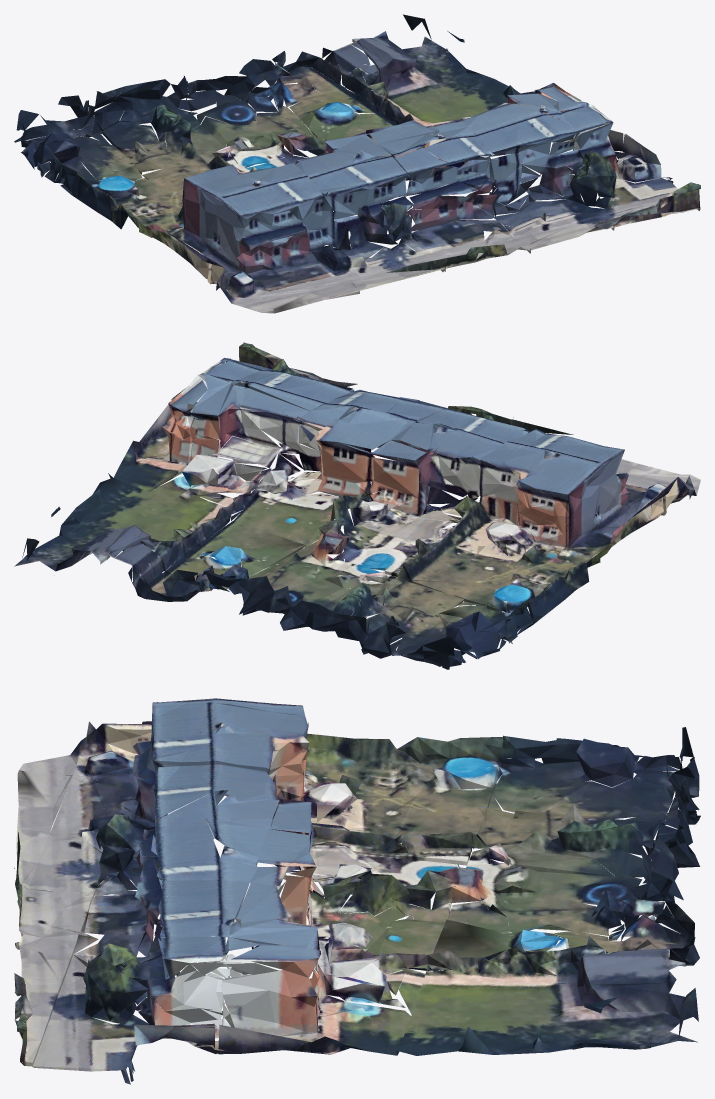
Rendered from house.gltf.
3 renders of one model, top to bottom at view 1: azimuth 30°, elevation 25°; view 2: azimuth 150°, elevation 25°; view 3: azimuth 270°, elevation 25°, orthographic. The views are drawn at different scales.
Parts seen in each view (by area): view 1: BuildingMesh-00023, BuildingMesh-00026, BuildingMesh-00011, BuildingMesh-00008, BuildingMesh-00000, BuildingMesh-00006, BuildingMesh-00022, BuildingMesh-00031, BuildingMesh-00223, BuildingMesh-00037; view 2: BuildingMesh-00023, BuildingMesh-00011, BuildingMesh-00026, BuildingMesh-00008, BuildingMesh-00000, BuildingMesh-00006, BuildingMesh-00022, BuildingMesh-00031, BuildingMesh-00037, BuildingMesh-00223; view 3: BuildingMesh-00026, BuildingMesh-00023, BuildingMesh-00011, BuildingMesh-00000, BuildingMesh-00008, BuildingMesh-00006, BuildingMesh-00022, BuildingMesh-00031, BuildingMesh-00223, BuildingMesh-00037.
Boxes of the visible parts, x1=… form: BuildingMesh-00023: x1=243, y1=119, x2=512, y2=258; BuildingMesh-00026: x1=446, y1=83, x2=696, y2=235; BuildingMesh-00011: x1=71, y1=155, x2=334, y2=284; BuildingMesh-00008: x1=186, y1=41, x2=413, y2=165; BuildingMesh-00000: x1=14, y1=76, x2=237, y2=194; BuildingMesh-00006: x1=352, y1=14, x2=540, y2=123; BuildingMesh-00022: x1=206, y1=250, x2=359, y2=313; BuildingMesh-00031: x1=334, y1=219, x2=530, y2=290; BuildingMesh-00223: x1=516, y1=184, x2=700, y2=250; BuildingMesh-00037: x1=527, y1=182, x2=700, y2=252; BuildingMesh-00023: x1=229, y1=389, x2=534, y2=570; BuildingMesh-00011: x1=384, y1=429, x2=668, y2=624; BuildingMesh-00026: x1=113, y1=358, x2=354, y2=513; BuildingMesh-00008: x1=106, y1=506, x2=380, y2=615; BuildingMesh-00000: x1=280, y1=566, x2=532, y2=669; BuildingMesh-00006: x1=14, y1=473, x2=217, y2=571; BuildingMesh-00022: x1=616, y1=459, x2=700, y2=514; BuildingMesh-00031: x1=448, y1=406, x2=573, y2=434; BuildingMesh-00037: x1=239, y1=342, x2=356, y2=386; BuildingMesh-00223: x1=239, y1=343, x2=357, y2=386; BuildingMesh-00026: x1=32, y1=879, x2=425, y2=1084; BuildingMesh-00023: x1=73, y1=760, x2=459, y2=970; BuildingMesh-00011: x1=118, y1=698, x2=503, y2=865; BuildingMesh-00000: x1=467, y1=727, x2=700, y2=877; BuildingMesh-00008: x1=427, y1=839, x2=699, y2=983; BuildingMesh-00006: x1=396, y1=954, x2=698, y2=1055; BuildingMesh-00022: x1=17, y1=721, x2=141, y2=834; BuildingMesh-00031: x1=14, y1=818, x2=111, y2=953; BuildingMesh-00223: x1=14, y1=942, x2=73, y2=1066; BuildingMesh-00037: x1=14, y1=951, x2=59, y2=1065.
Bounding box in the file's own units: 102 × 16.49 × 93.13.
Materials: 12 (12 with a texture image).
